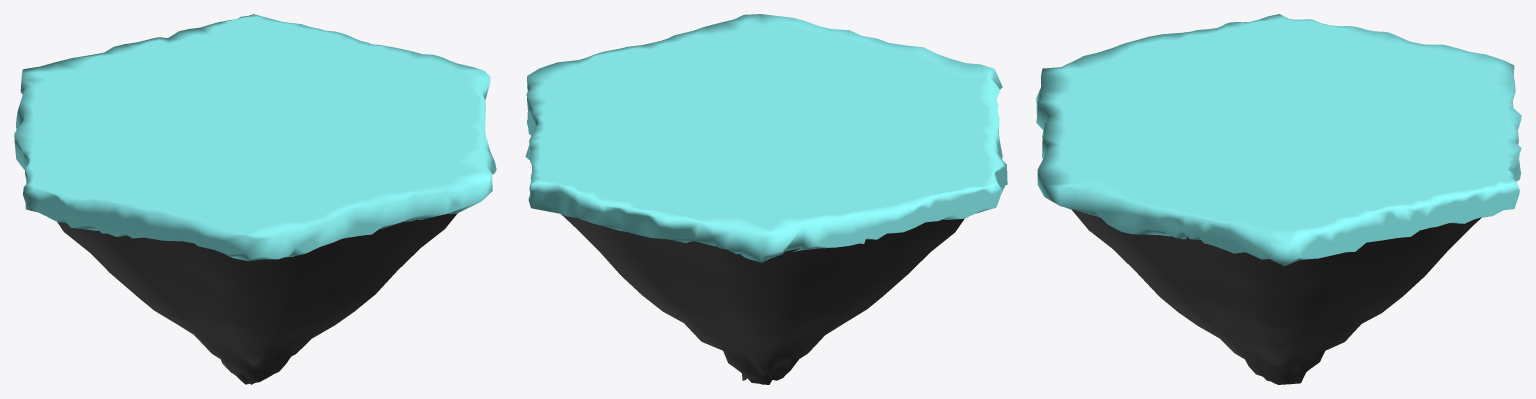
The model's file is snow block.fbx.
3 renders of one model, left to right at view 1: azimuth 30°, elevation 25°; view 2: azimuth 150°, elevation 25°; view 3: azimuth 270°, elevation 25°, orthographic.
Parts seen in each view (by area): view 1: SNow, UnderStone; view 2: SNow, UnderStone; view 3: SNow, UnderStone.
Boxes of the visible parts, <box> form: SNow: <box>14,14,496,260</box>; UnderStone: <box>57,213,457,384</box>; SNow: <box>525,14,1007,262</box>; UnderStone: <box>561,214,964,384</box>; SNow: <box>1036,14,1521,265</box>; UnderStone: <box>1071,209,1481,384</box>.
Bounding box in the file's own units: 140 × 73.64 × 124.
